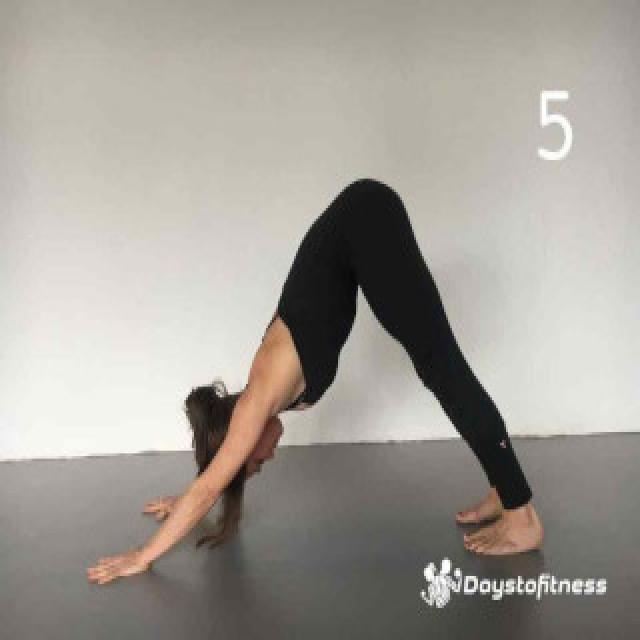yoga-pose downward: (93, 177, 554, 570)
